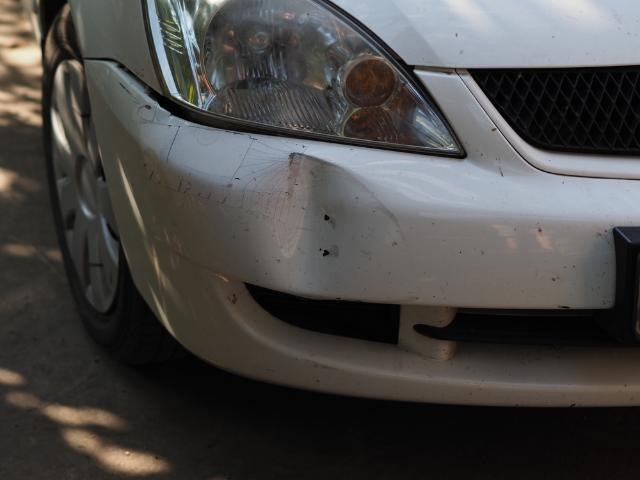dent: (260, 153, 345, 285)
